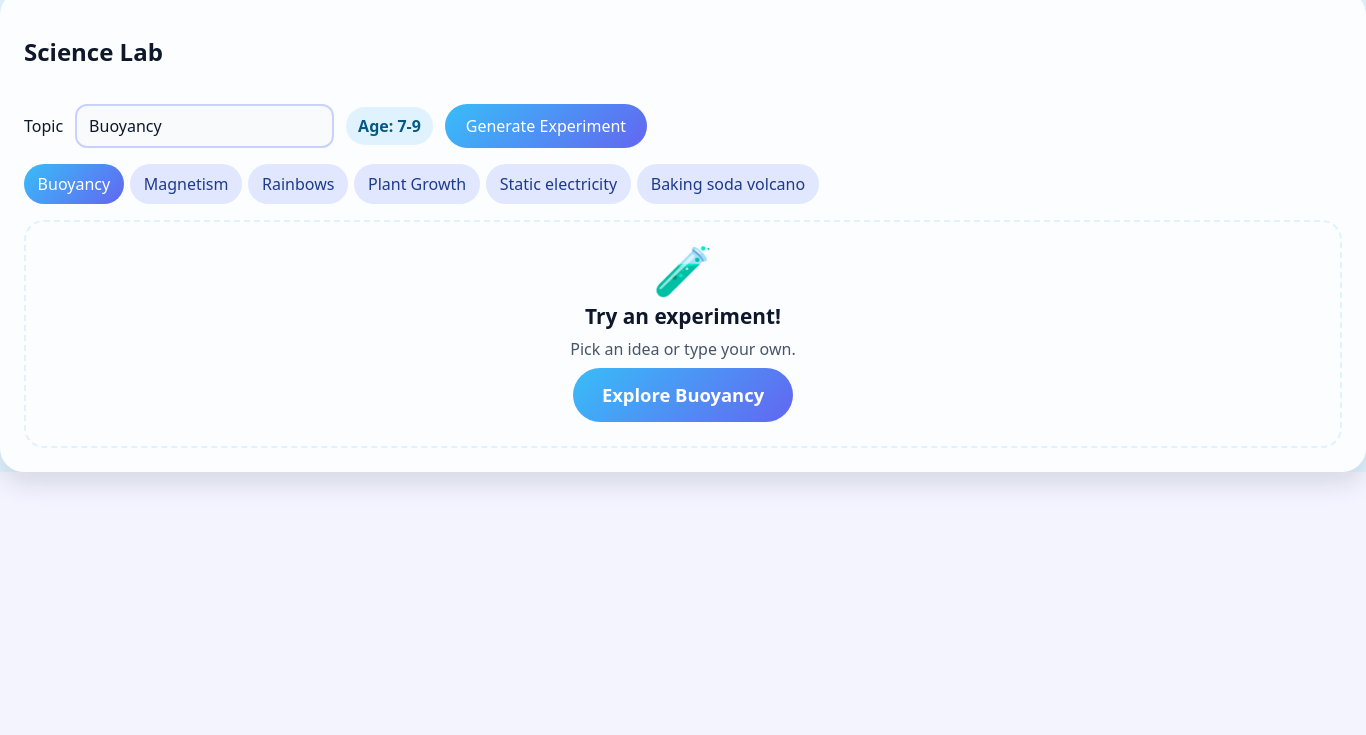
Test: ScienceLab step progression › shows one experiment step at a time before prediction
Click the button "Generate Experiment". click: (546, 126)
box: left=445, top=104, right=647, bottom=148
(page scrolled)
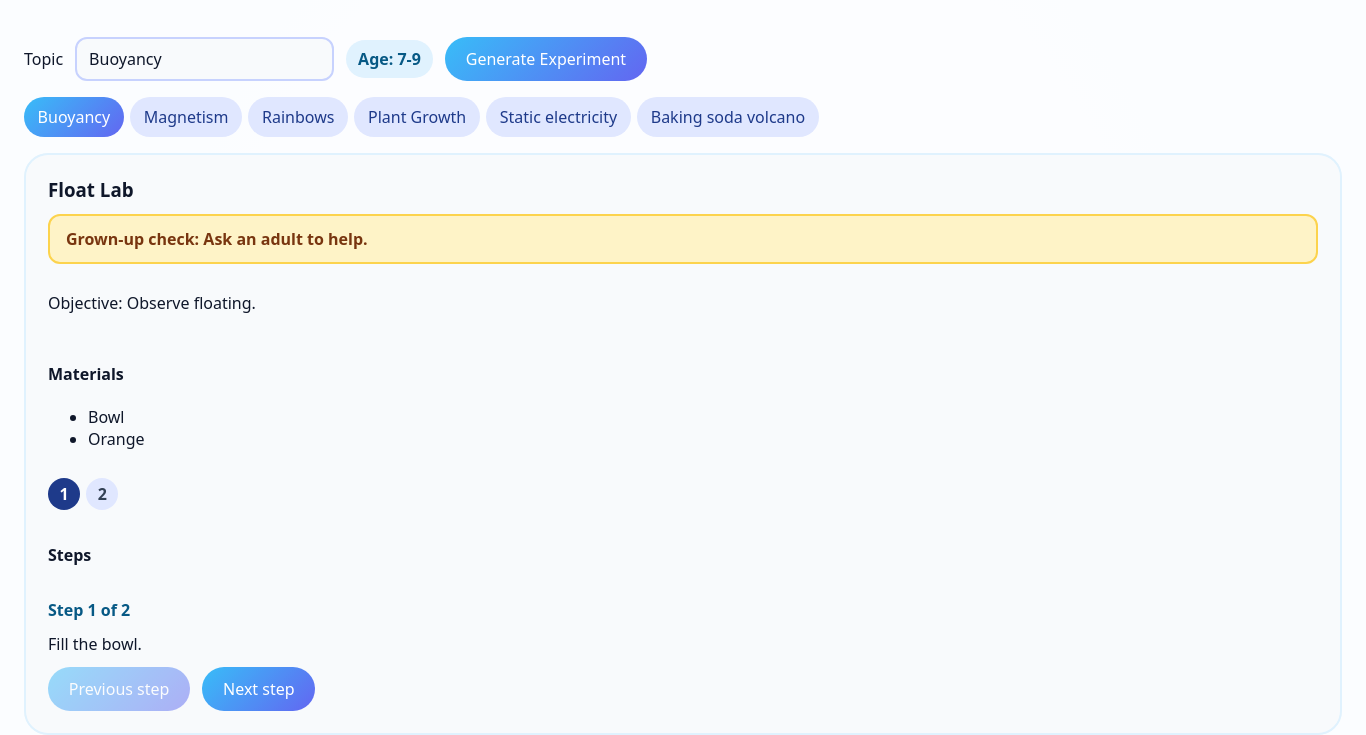
Expected: the heading "Float Lab" is shown, left=48, top=177, right=134, bottom=202
Expected: the text "Step 1 of 2" is shown, left=48, top=599, right=130, bottom=621
Expected: the text "Fill the bowl." is shown, left=48, top=633, right=142, bottom=655
Click the button "Next step". click: (259, 689)
box: left=202, top=667, right=315, bottom=711
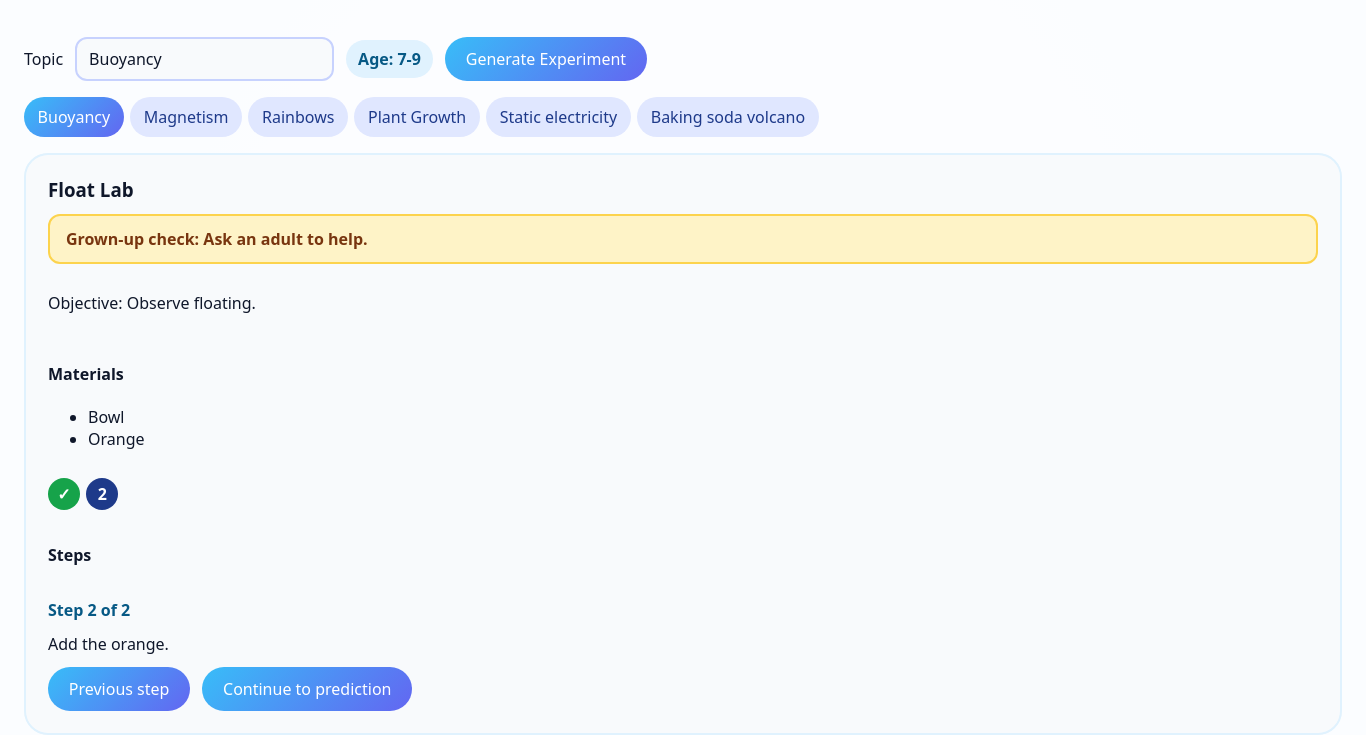
Expected: the text "Step 2 of 2" is shown, left=48, top=599, right=130, bottom=621
Expected: the text "Add the orange." is shown, left=48, top=633, right=169, bottom=655
Click the button "Continue to prediction". click: (307, 689)
box: left=202, top=667, right=412, bottom=711
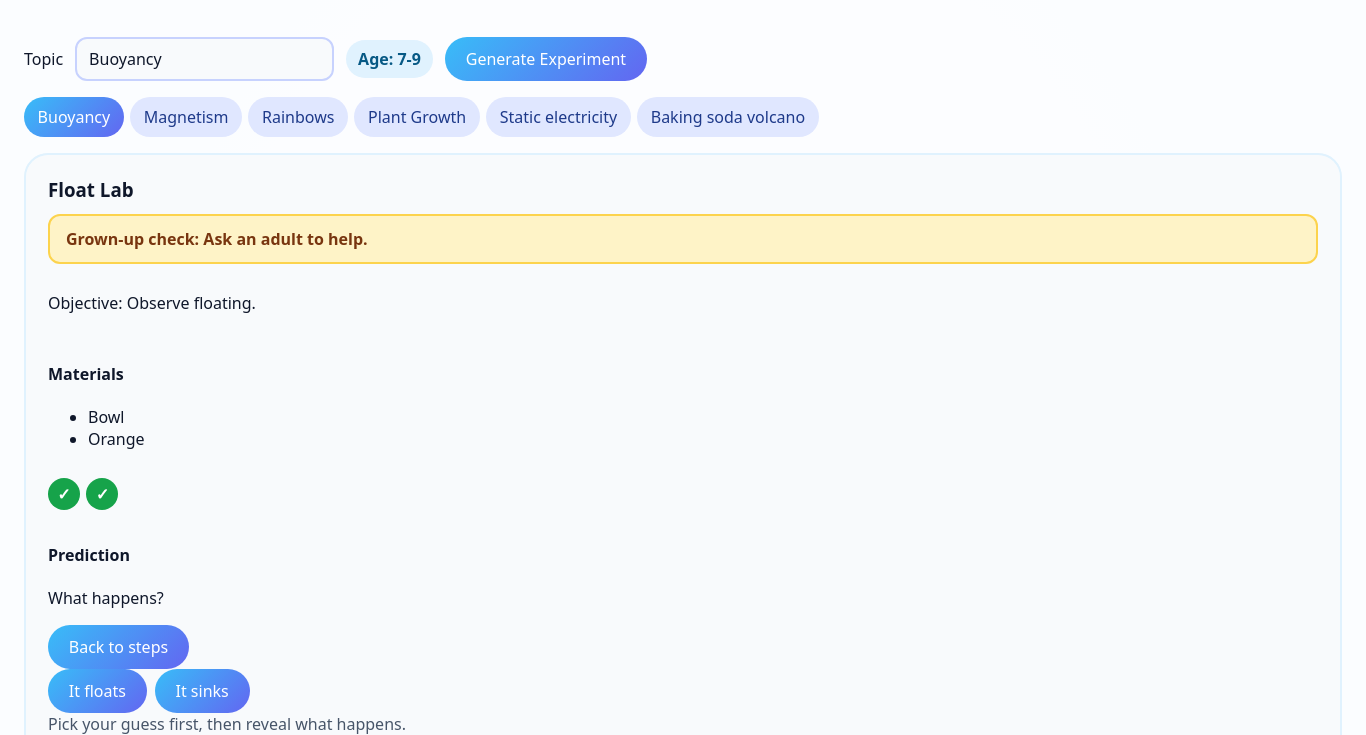
Expected: the text "What happens?" is shown, left=48, top=587, right=164, bottom=609
